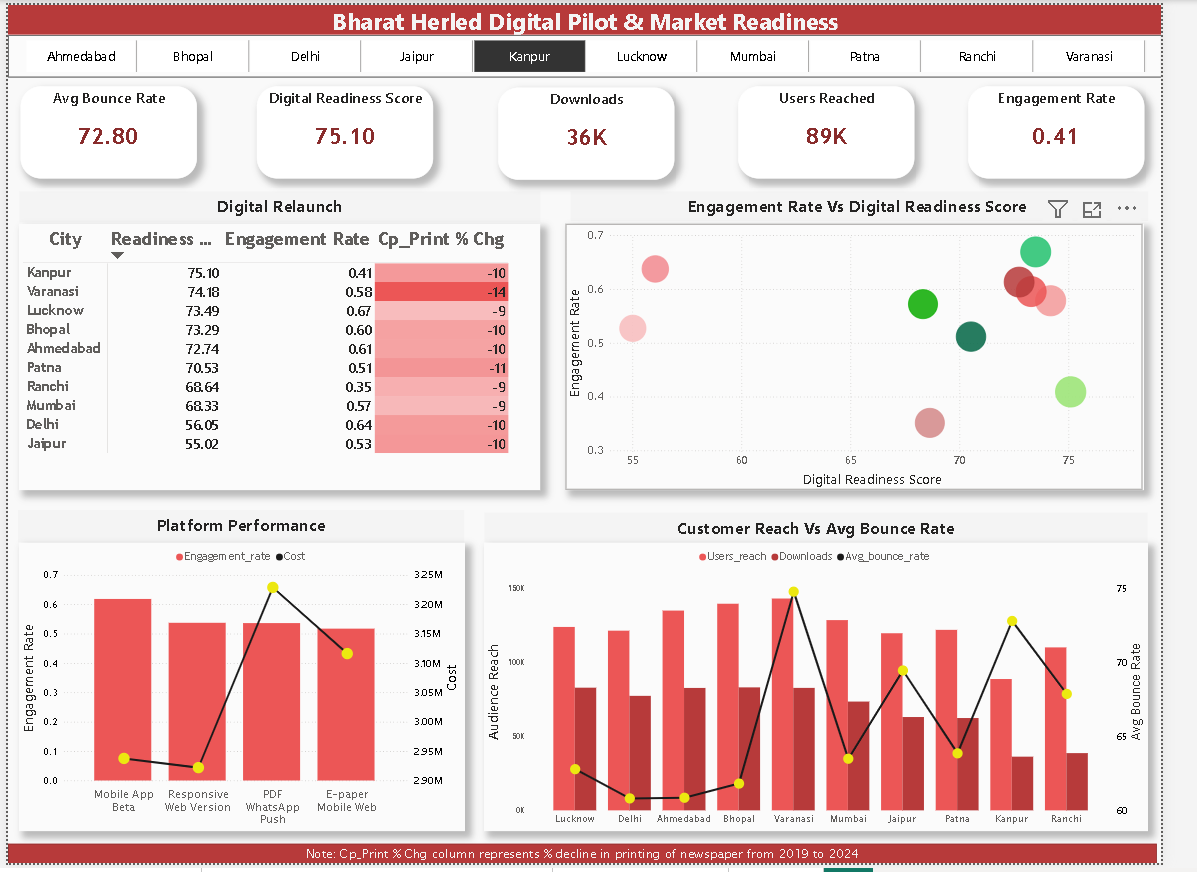

What the dashboard file says about the page in this screenshot:
{"tool":"powerbi","page":{"name":"Bharat Herled  Digital Pilot & Market Readiness","canvas":[1700,1265],"ordinal":1},"visuals":[{"type":"slicer","fields":{"Values":["dim_city.city"]},"box":[0,44.2,1700.1,62.6],"z":0},{"type":"shape","box":[0,0,1699.9,43.7],"z":1000},{"type":"textbox","box":[16.4,274.3,768.1,45.5],"z":2000},{"type":"textbox","box":[828.6,275.3,851.4,44.3],"z":3000},{"type":"textbox","box":[702.5,747.5,977.4,43.7],"z":4000},{"type":"textbox","box":[14.7,743.8,657.6,47.9],"z":5000},{"type":"card","title":"Downloads","fields":{"Values":["key metrices.Downloads"]},"box":[721.5,121.3,260,135.7],"z":6000},{"type":"card","title":"Avg Bounce Rate","fields":{"Values":["key metrices.Avg_bounce_rate"]},"box":[18.6,119.9,260,135.7],"z":7000},{"type":"card","title":"Engagement Rate","fields":{"Values":["key metrices.Engagement_rate"]},"box":[1414.3,119.9,260,135.7],"z":8000},{"type":"card","title":"Digital Readiness Score","fields":{"Values":["key metrices.Digital_readiness_score"]},"box":[365.8,119.9,260,135.7],"z":9000},{"type":"card","title":"Users Reached","fields":{"Values":["key metrices.Users_reach"]},"box":[1075.8,119.9,260,135.7],"z":10000},{"type":"pivotTable","fields":{"Rows":["dim_city.city"],"Values":["key metrices.Digital_readiness_score","key metrices.Engagement_rate","key metrices.Print2019"]},"box":[16.4,321.6,768.1,393.1],"z":11000},{"type":"scatterChart","fields":{"Y":["key metrices.Engagement_rate"],"Series":["dim_city.city"],"X":["key metrices.Digital_readiness_score"],"Size":["key metrices.Digital_readiness_score"]},"box":[820.8,321.6,851.8,393.1],"z":12000},{"type":"lineClusteredColumnComboChart","fields":{"Category":["dim_city.city"],"Y":["key metrices.Users_reach","key metrices.Downloads"],"Y2":["key metrices.Avg_bounce_rate"]},"box":[702.5,791.2,977.4,425.9],"z":13000},{"type":"lineClusteredColumnComboChart","fields":{"Category":["fact_digitalpilot.platform"],"Y":["key metrices.Engagement_rate"],"Y2":["key metrices.Cost"]},"box":[16.4,791.2,657,425.9],"z":14000},{"type":"shape","box":[0,1235.5,1692.7,29.5],"z":15000}]}

Visuals, with their boxes in screenshot pixels (x1, y1, x2, y2), scaled from the page's 1700x1265 canvas onto the 1197x872 screenshot:
slicer - dim_city.city: x1=0, y1=30, x2=1196, y2=74
shape: x1=0, y1=0, x2=1196, y2=30
textbox: x1=12, y1=189, x2=552, y2=220
textbox: x1=583, y1=190, x2=1183, y2=220
textbox: x1=495, y1=515, x2=1183, y2=545
textbox: x1=10, y1=513, x2=473, y2=546
"Downloads" card: x1=508, y1=84, x2=691, y2=177
"Avg Bounce Rate" card: x1=13, y1=83, x2=196, y2=176
"Engagement Rate" card: x1=996, y1=83, x2=1179, y2=176
"Digital Readiness Score" card: x1=258, y1=83, x2=441, y2=176
"Users Reached" card: x1=757, y1=83, x2=941, y2=176
pivotTable - dim_city.city x key metrices.Digital_readiness_score: x1=12, y1=222, x2=552, y2=493
scatterChart - key metrices.Engagement_rate x dim_city.city: x1=578, y1=222, x2=1178, y2=493
lineClusteredColumnComboChart - dim_city.city x key metrices.Users_reach: x1=495, y1=545, x2=1183, y2=839
lineClusteredColumnComboChart - fact_digitalpilot.platform x key metrices.Engagement_rate: x1=12, y1=545, x2=474, y2=839
shape: x1=0, y1=852, x2=1192, y2=871
